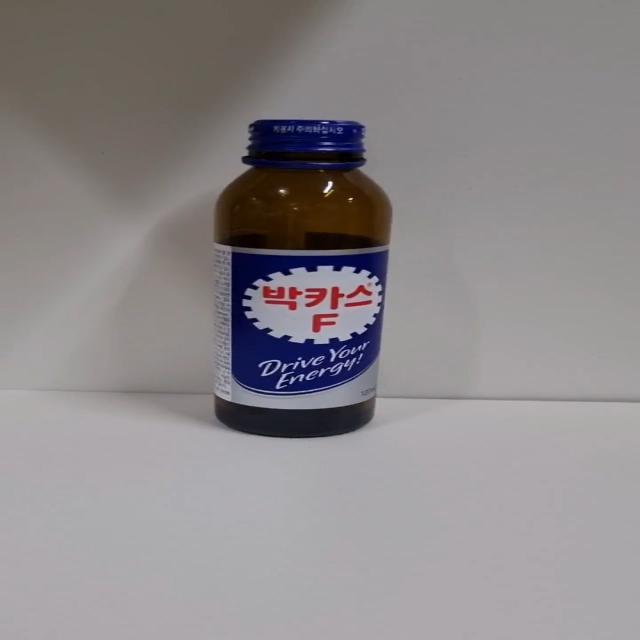Glass: (212, 119, 393, 432)
